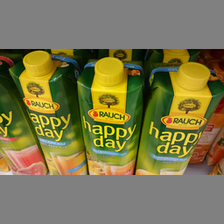juice: (132, 63, 224, 175), (9, 52, 87, 174), (75, 58, 146, 174)
